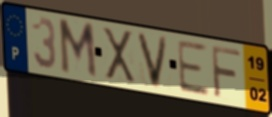3: (30, 16, 57, 72)
E: (175, 38, 212, 99)
F: (210, 44, 243, 102)
M: (57, 17, 99, 82)
V: (134, 30, 171, 91)
X: (100, 25, 137, 85)
